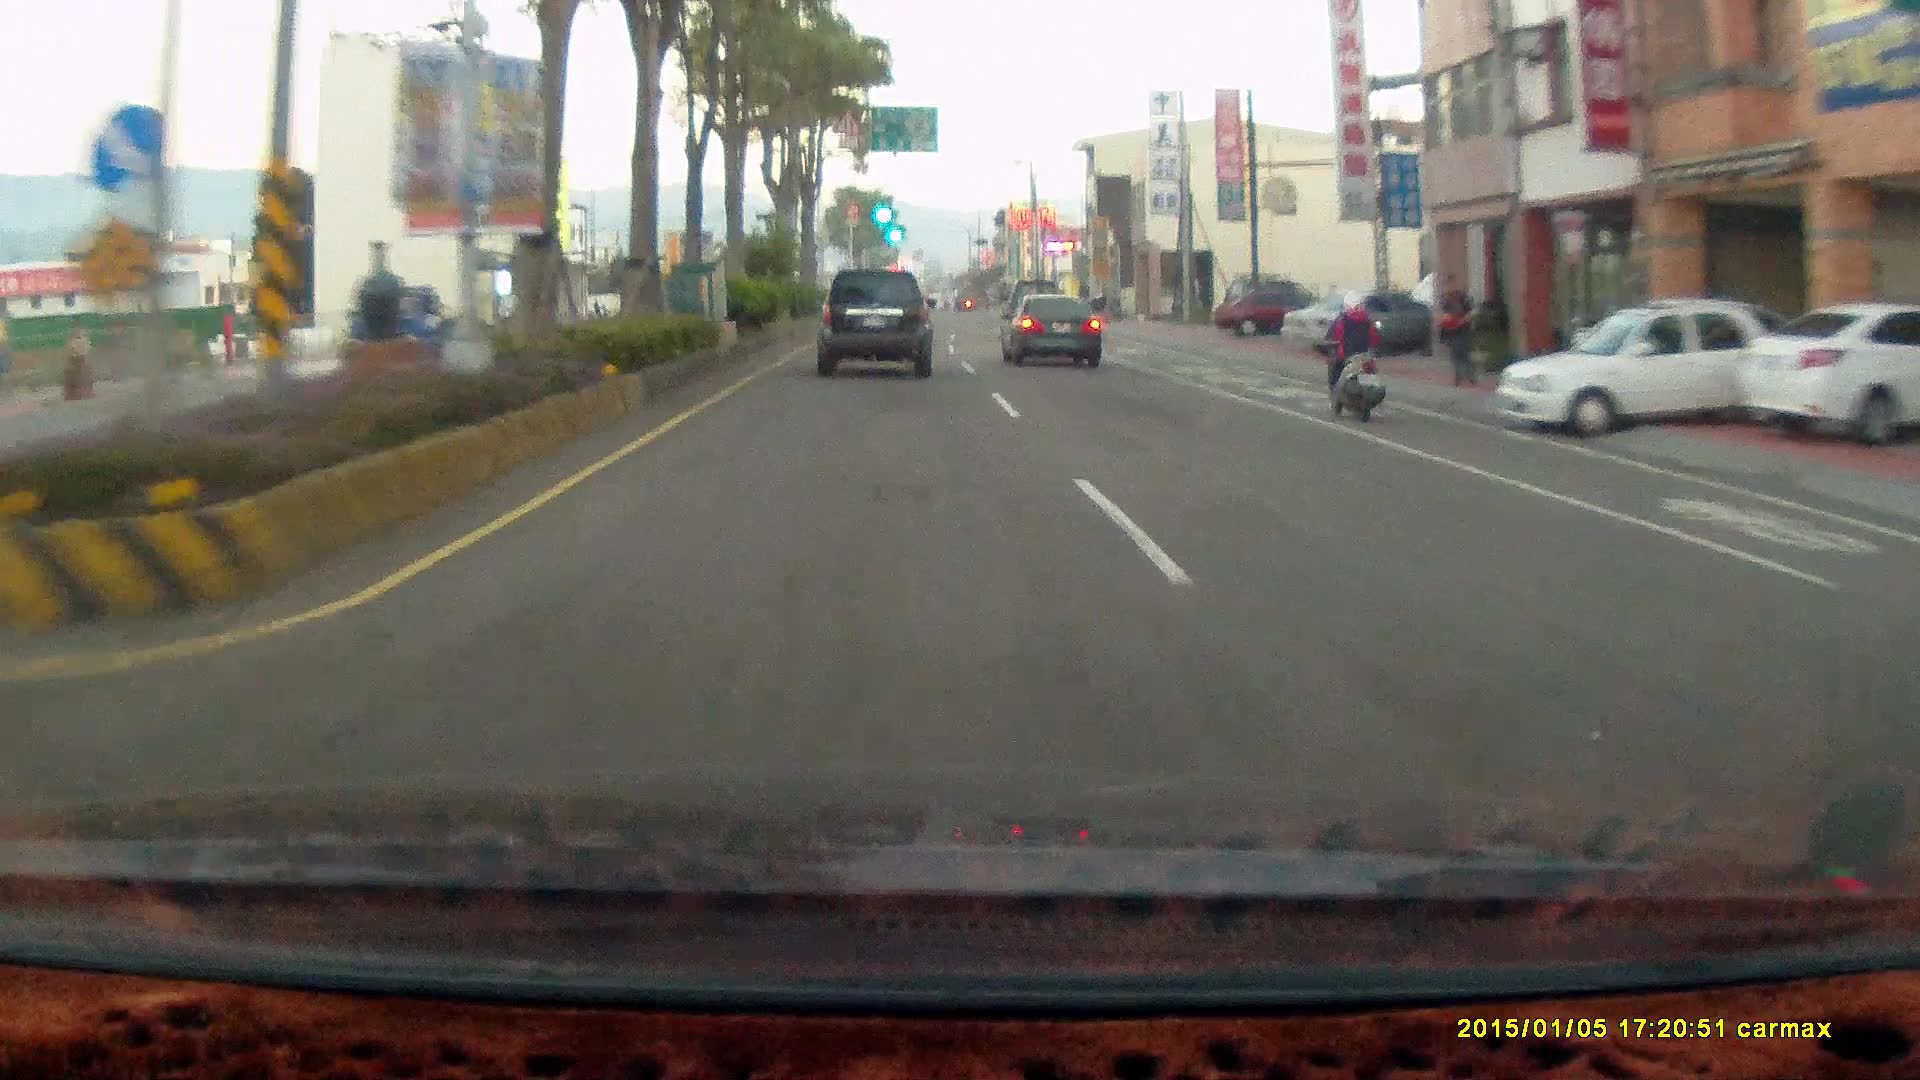pedestrian: (1433, 274, 1483, 387)
rider: (1308, 282, 1399, 433), (1319, 291, 1386, 422)
vehicle: (1496, 300, 1808, 448), (1494, 301, 1793, 437), (1738, 305, 1920, 450), (810, 269, 941, 388), (814, 269, 936, 378), (1279, 293, 1448, 366), (1280, 293, 1453, 360), (998, 291, 1102, 368), (1001, 296, 1104, 369), (1214, 291, 1333, 336)
